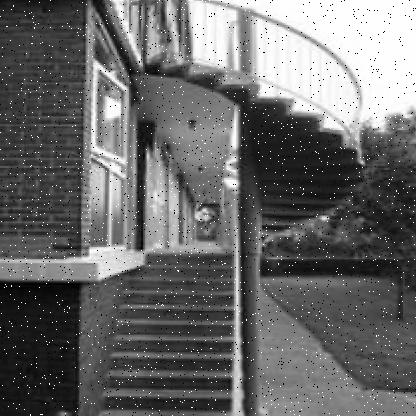stair_up: (103, 292, 236, 416)
